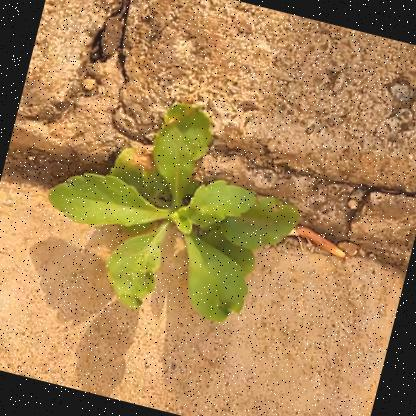Weeds: (27, 80, 321, 343)
